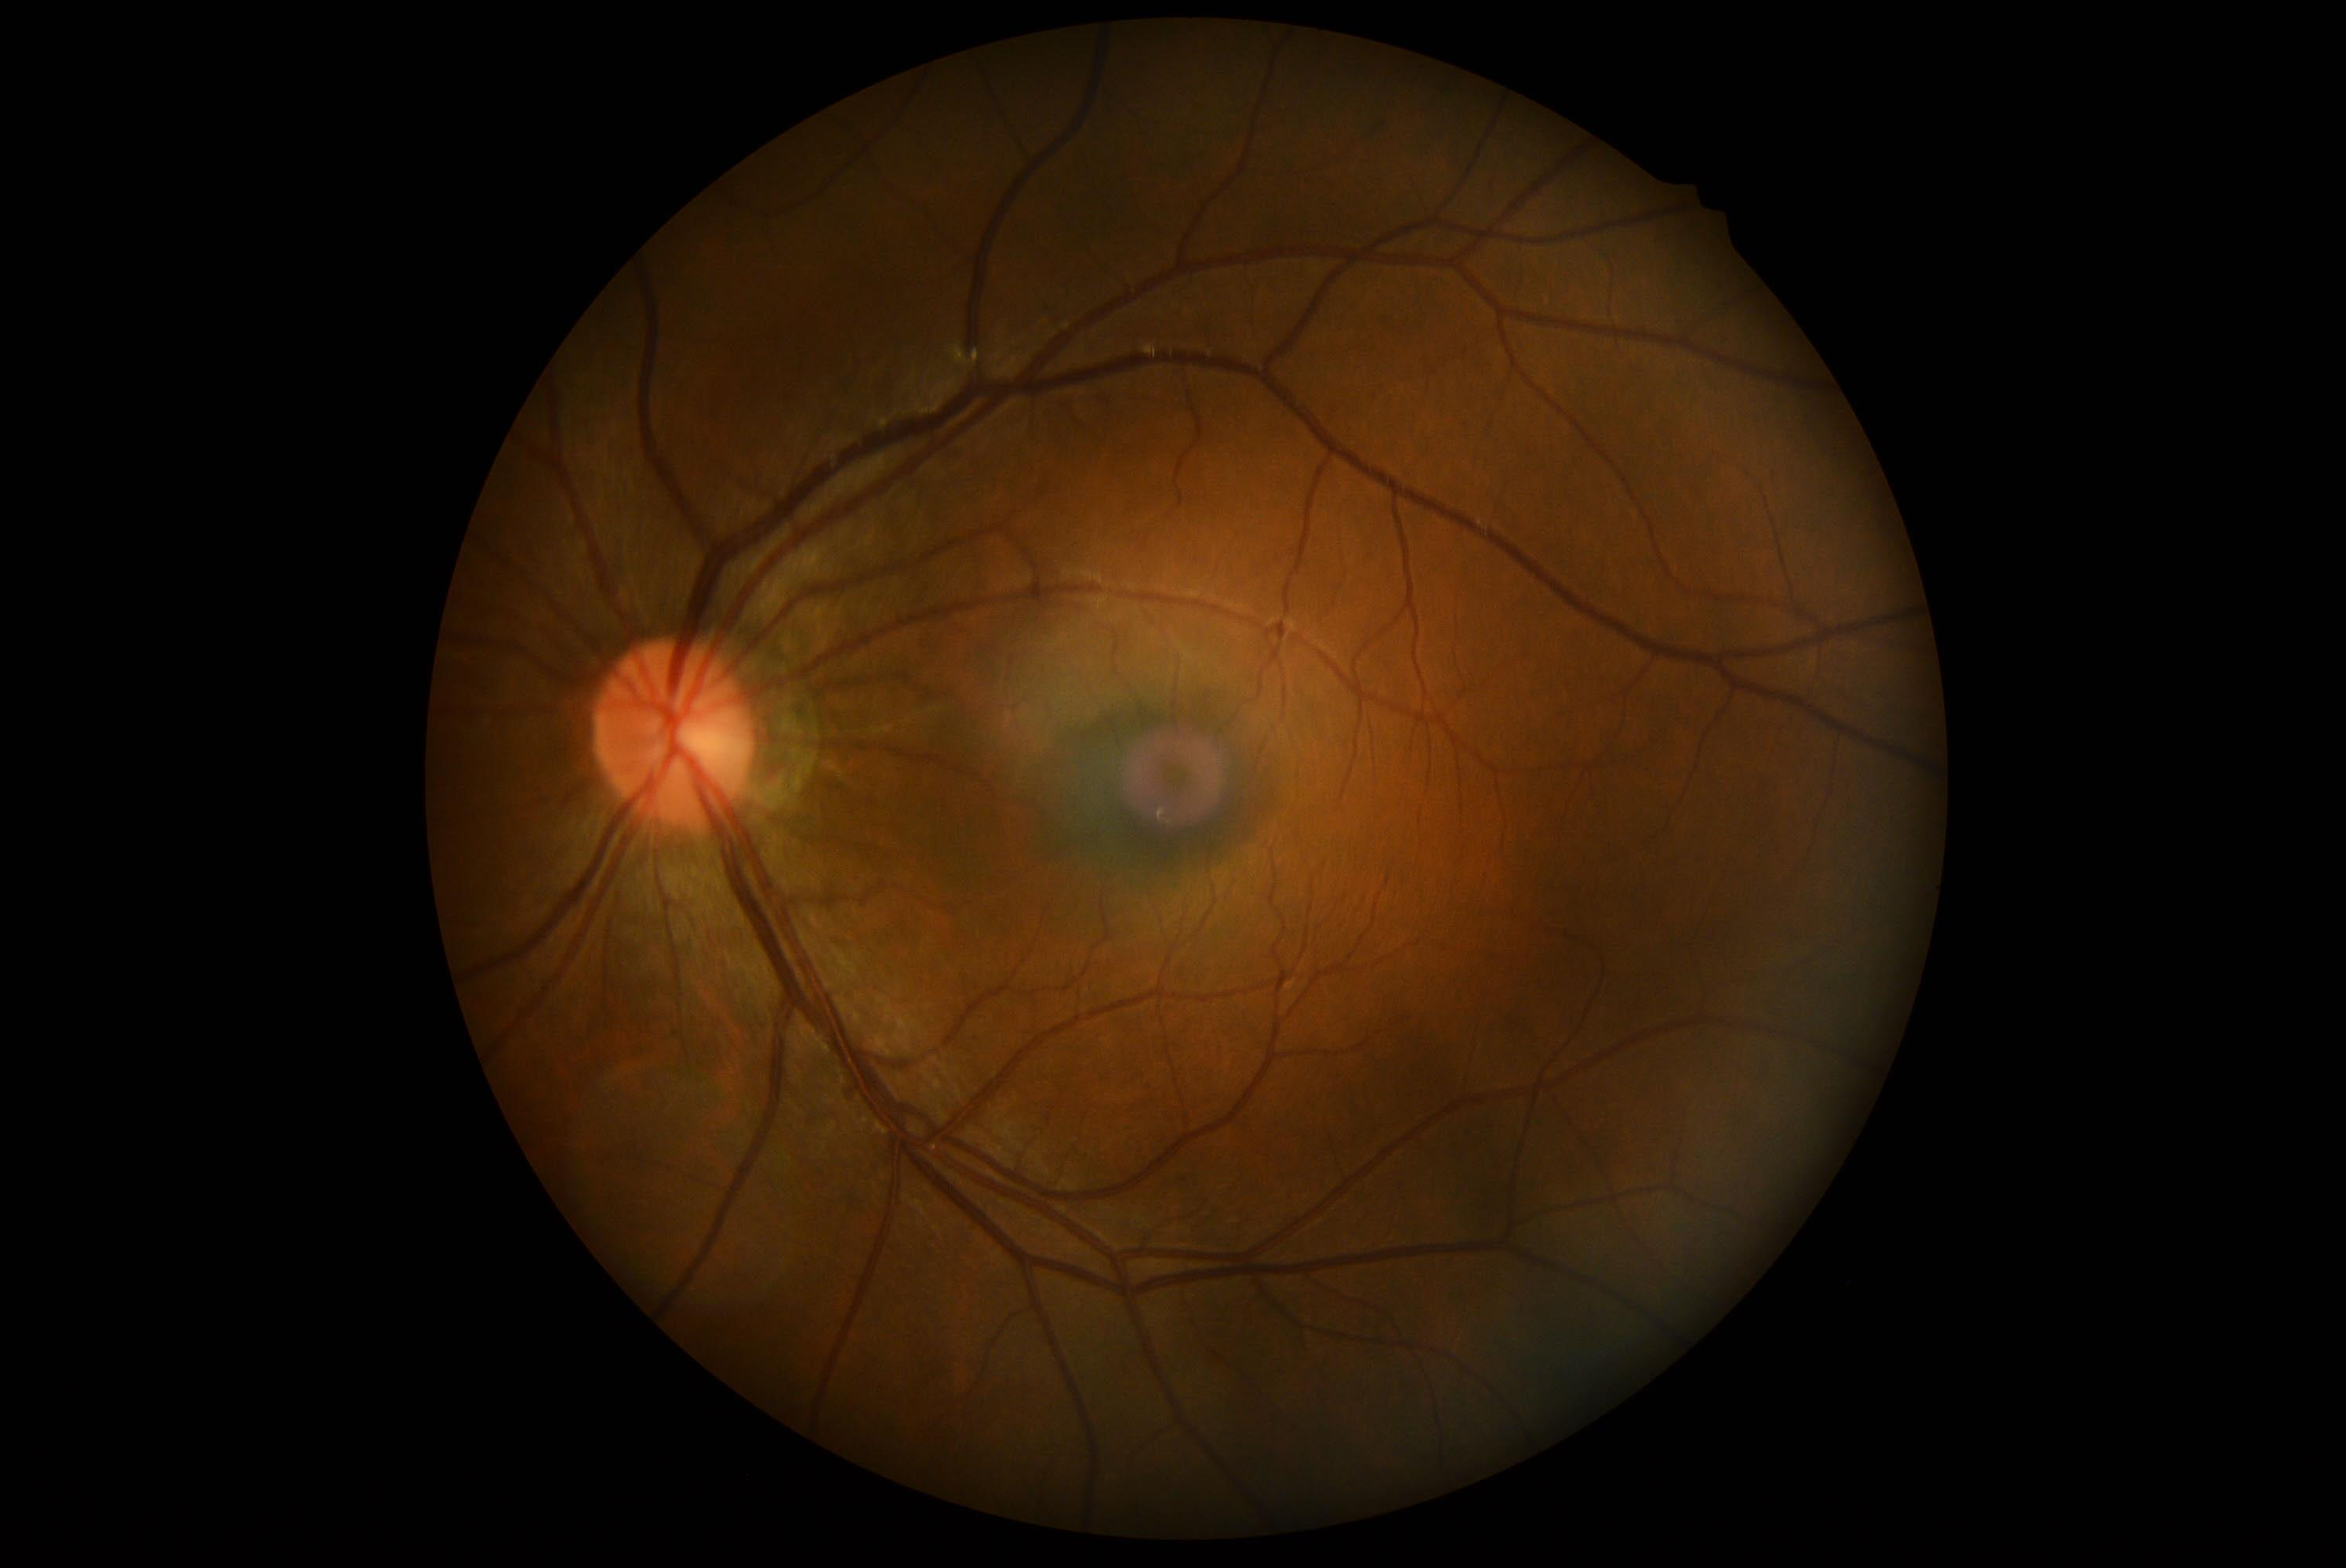Fovea: (1107, 709, 1247, 851)
